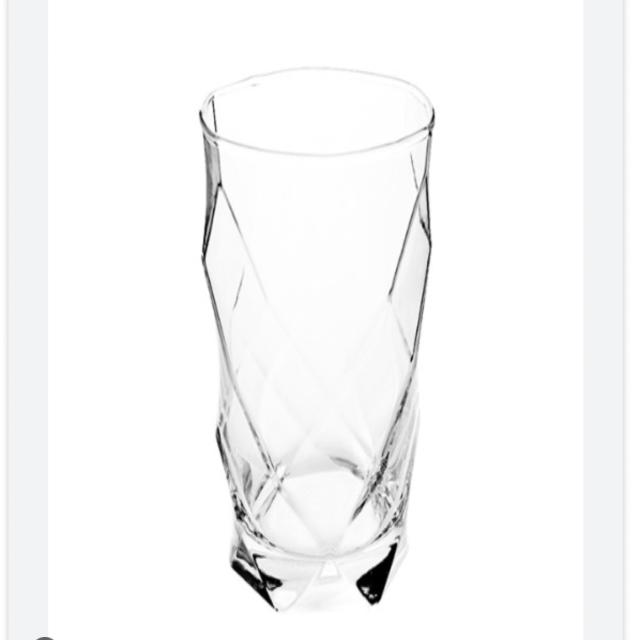recyclable: (193, 36, 441, 624)
